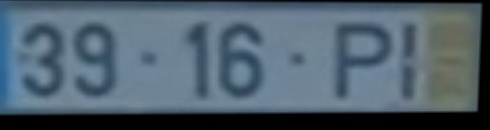1: (182, 21, 216, 104)
3: (20, 21, 72, 105)
6: (220, 21, 268, 103)
9: (72, 22, 120, 103)
I: (399, 21, 423, 106)
P: (335, 23, 396, 103)
